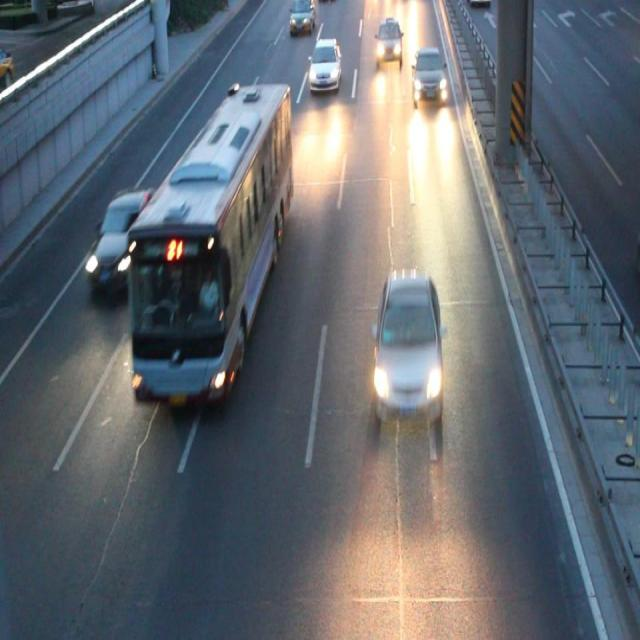car: (372, 267, 442, 422), (90, 190, 158, 296), (411, 50, 446, 101), (309, 37, 339, 91), (374, 22, 402, 63), (289, 1, 314, 36)
van: (130, 85, 292, 406)
